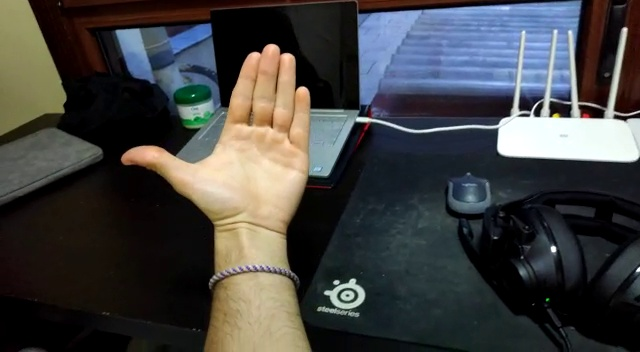Palm: (115, 39, 311, 242)
